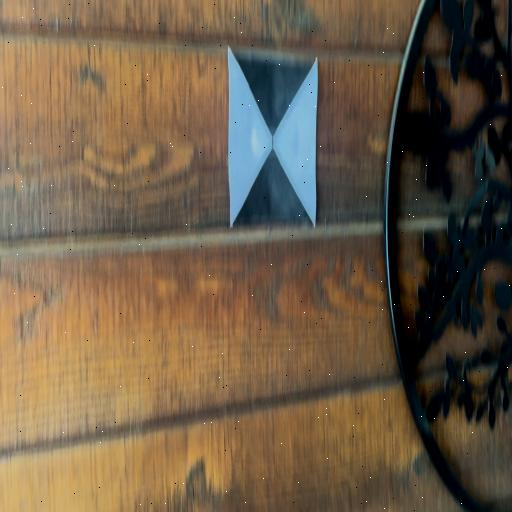target: (227, 54, 317, 227)
